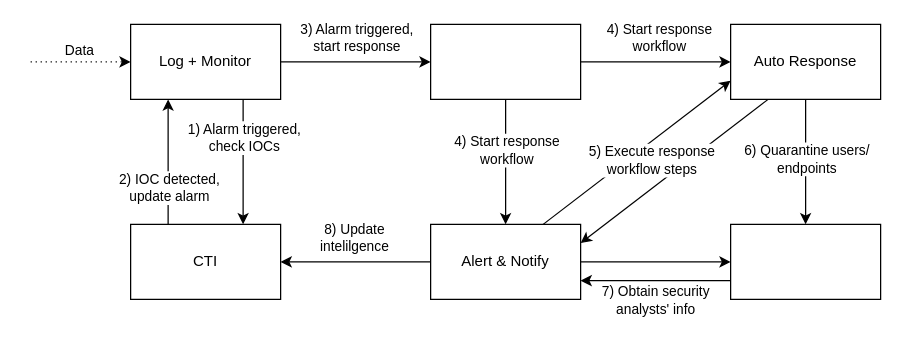
Image size: 903x338. Some labels were removed from this diagram. The centre of each missing label's shape, as x and y in pixels:
"Identity Managment" belongs at (x=805, y=261).
"Playbook" belongs at (x=505, y=61).
